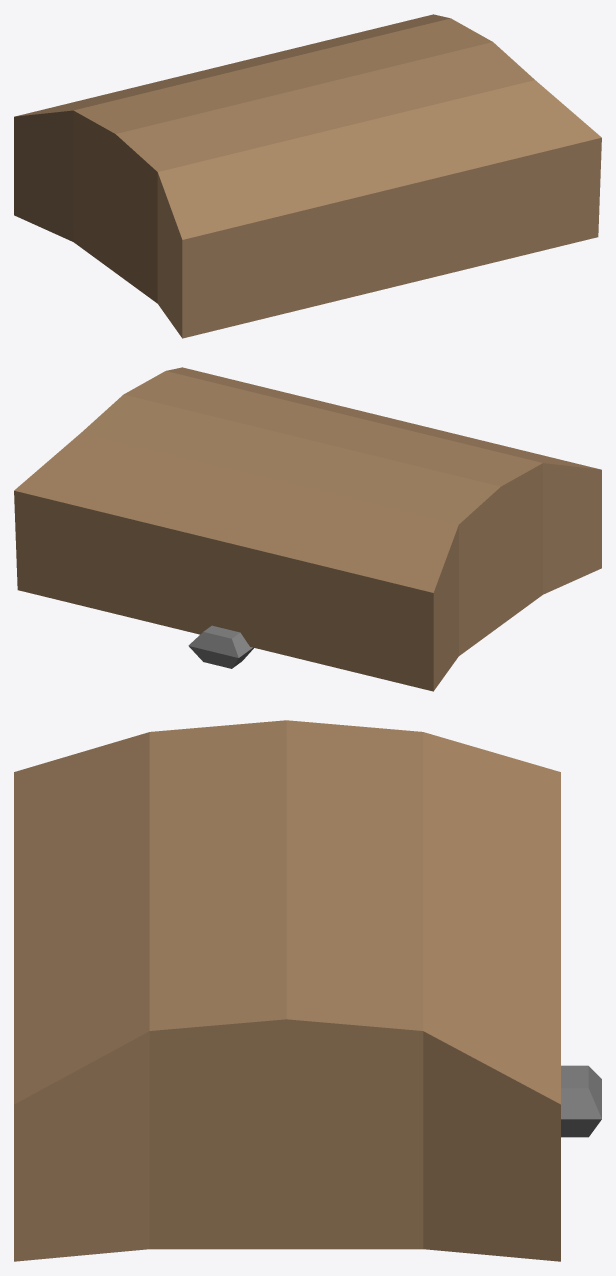
Rendered from chestkapak2.fbx.
3 renders of one model, top to bottom at view 1: azimuth 30°, elevation 25°; view 2: azimuth 150°, elevation 25°; view 3: azimuth 270°, elevation 25°, orthographic. The views are drawn at different scales.
Visible parts, largest first — view 1: Cube.003; view 2: Cube.003, Cube.001; view 3: Cube.003, Cube.001.
Boxes of the visible parts, x1=… form: Cube.003: x1=14, y1=14, x2=601, y2=338; Cube.003: x1=14, y1=367, x2=601, y2=691; Cube.001: x1=188, y1=625, x2=253, y2=668; Cube.003: x1=14, y1=720, x2=560, y2=1261; Cube.001: x1=561, y1=1065, x2=601, y2=1137.
Size of the model in its own units: 235 by 84.24 by 176.
